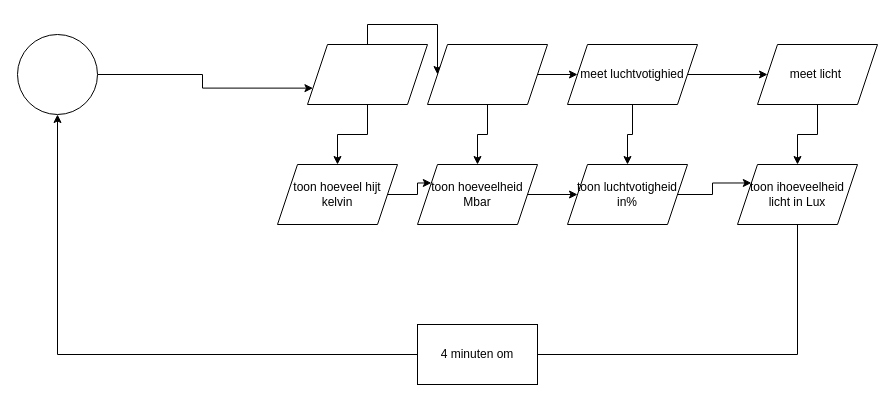
Some shapes in this 895 by 402 pixel diagram are drawn without their labels. The shapes that lost their labels are listed below. From the top down, each one's centre as x and y in pixels, then its label:
At (x=57, y=74): "start".
At (x=367, y=74): "meet temparaaatuur".
At (x=487, y=74): "meet luchtdruk".
